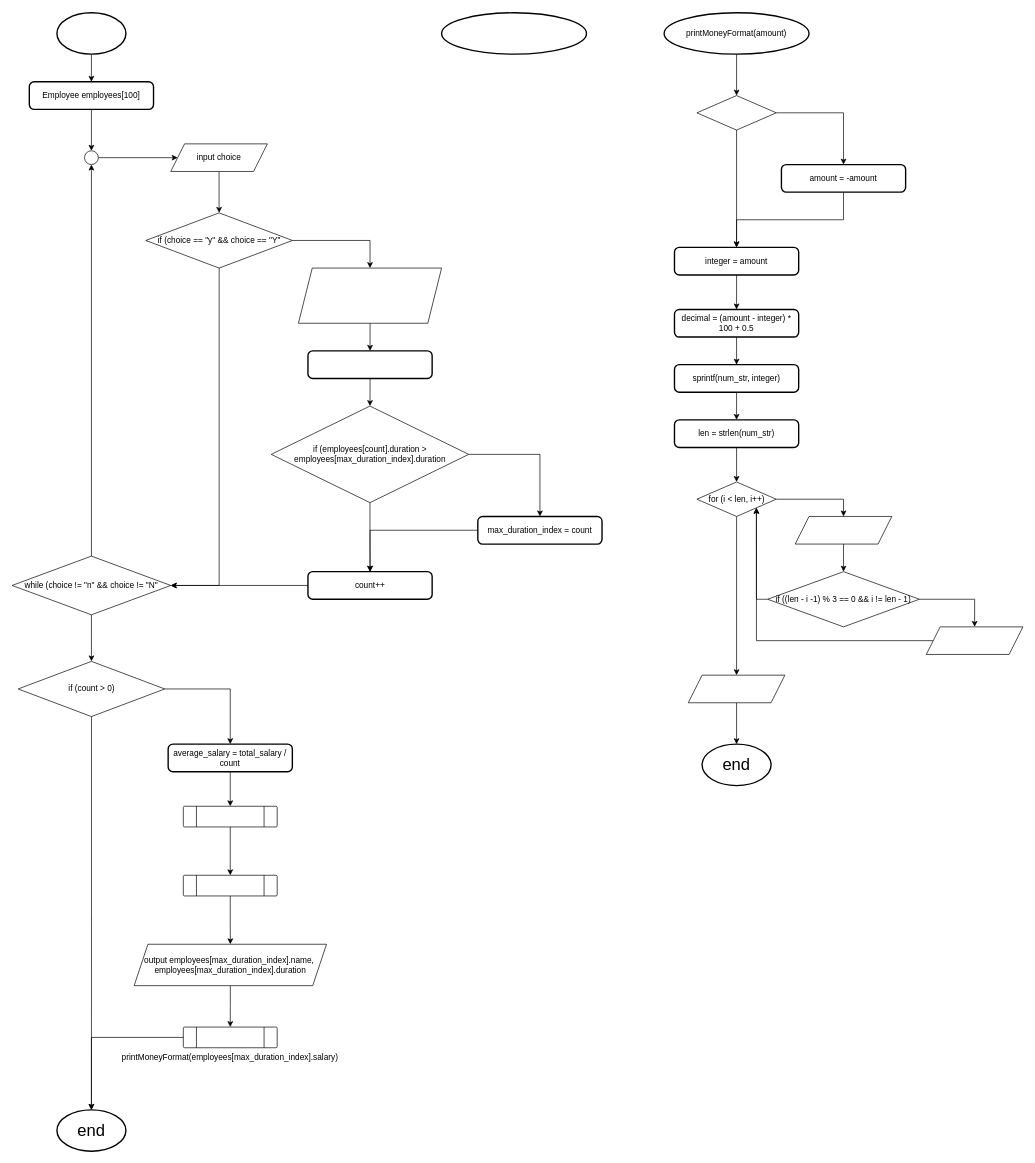
Some shapes in this 1035 by 1163 pixel diagram are drawn without their labels. The shapes that lost their labels are listed below. From the top down, each one's centre as x and y in pixels, then its label:
[91,33]: start
[514,33]: Employee = {name, salary,duration}
[736,112]: if (amount < 0)
[370,295]: input employees[count].name, employees[count].salary, employees[count].duration
[369,364]: total_salary += employees[count].salary
[843,530]: output num_str[i]
[974,640]: output ","
[736,688]: output decimal
[230,816]: printMoneyFormat(average_salary)
[230,885]: printMoneyFormat(total_salary)
